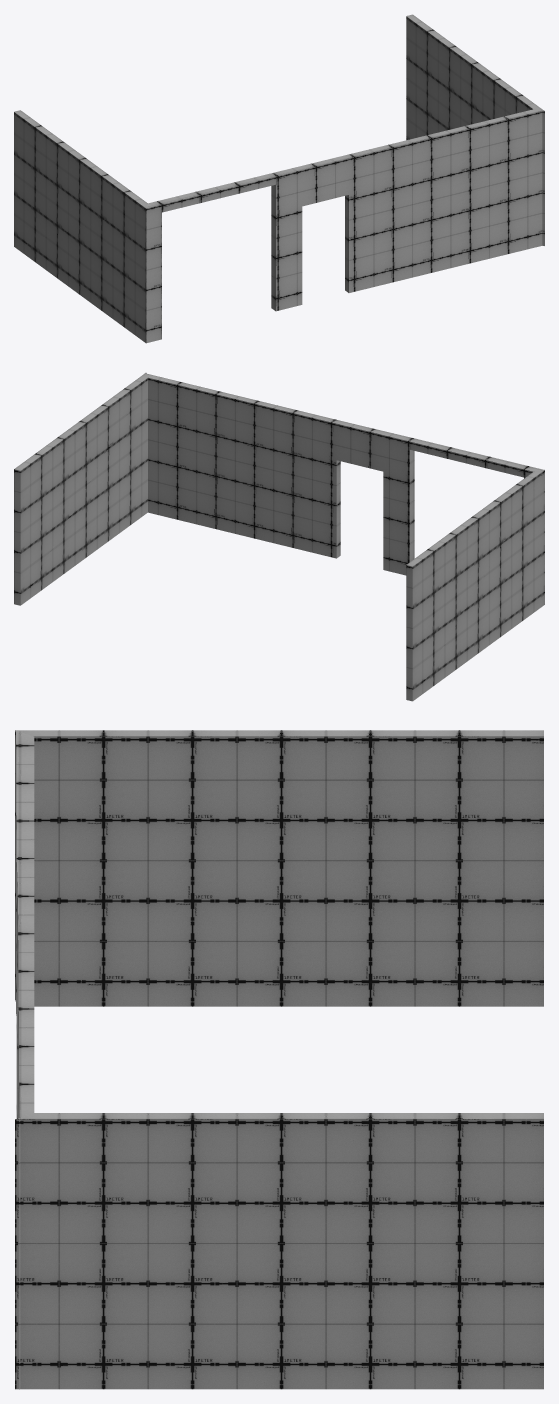
The model's file is Casa_EXTERIOR_Muro_Anterior_Alto.fbx.
3 views of the same model, one above another, from view 1: azimuth 30°, elevation 25°; view 2: azimuth 150°, elevation 25°; view 3: azimuth 270°, elevation 25° (orthographic). The views are drawn at different scales.
Parts seen in each view (by area): view 1: Casa_EXTERIOR_Muro_Anterior_Alto; view 2: Casa_EXTERIOR_Muro_Anterior_Alto; view 3: Casa_EXTERIOR_Muro_Anterior_Alto.
Part boxes in pixels (x1,y1,x2,y2): Casa_EXTERIOR_Muro_Anterior_Alto: (14, 14, 544, 343); Casa_EXTERIOR_Muro_Anterior_Alto: (14, 373, 544, 701); Casa_EXTERIOR_Muro_Anterior_Alto: (15, 730, 543, 1389).
Size of the model in its own units: 10.37 by 3.35 by 5.95.
